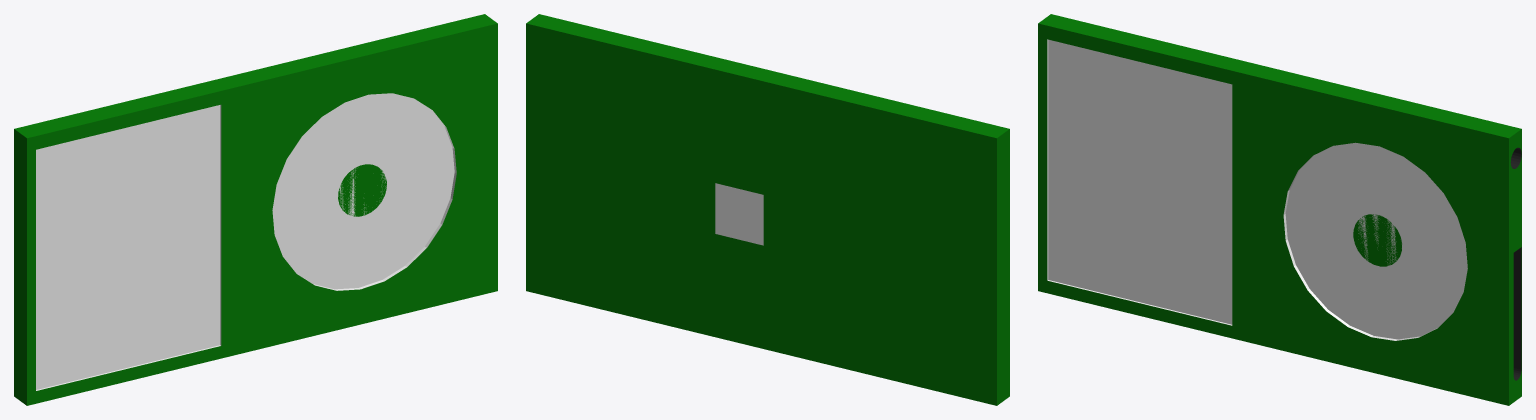
3 renders of one model, left to right at view 1: azimuth 30°, elevation 25°; view 2: azimuth 150°, elevation 25°; view 3: azimuth 330°, elevation 25°, orthographic.
Visible parts, largest first — view 1: ipod nano; view 2: ipod nano; view 3: ipod nano.
Part boxes in pixels (x1,y1,x2,y2): ipod nano: (14, 14, 497, 405); ipod nano: (526, 14, 1009, 405); ipod nano: (1038, 14, 1521, 405).
Bounding box in the file's own units: 197 × 107 × 11.83.
